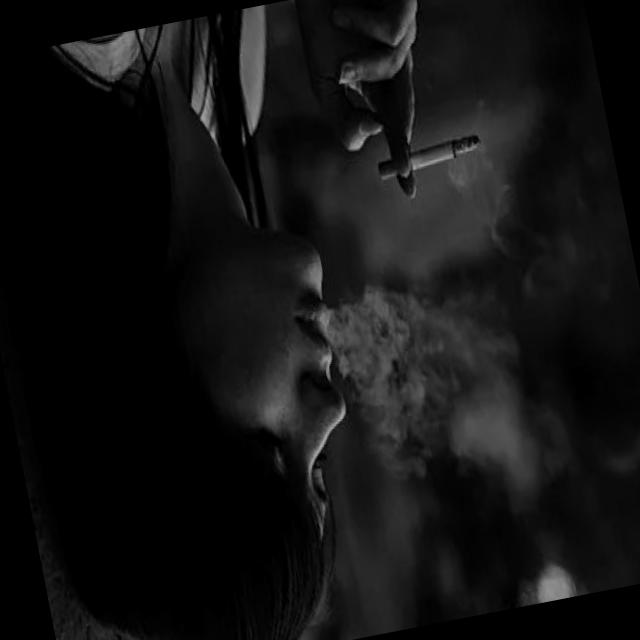smoke: (372, 130, 489, 183)
